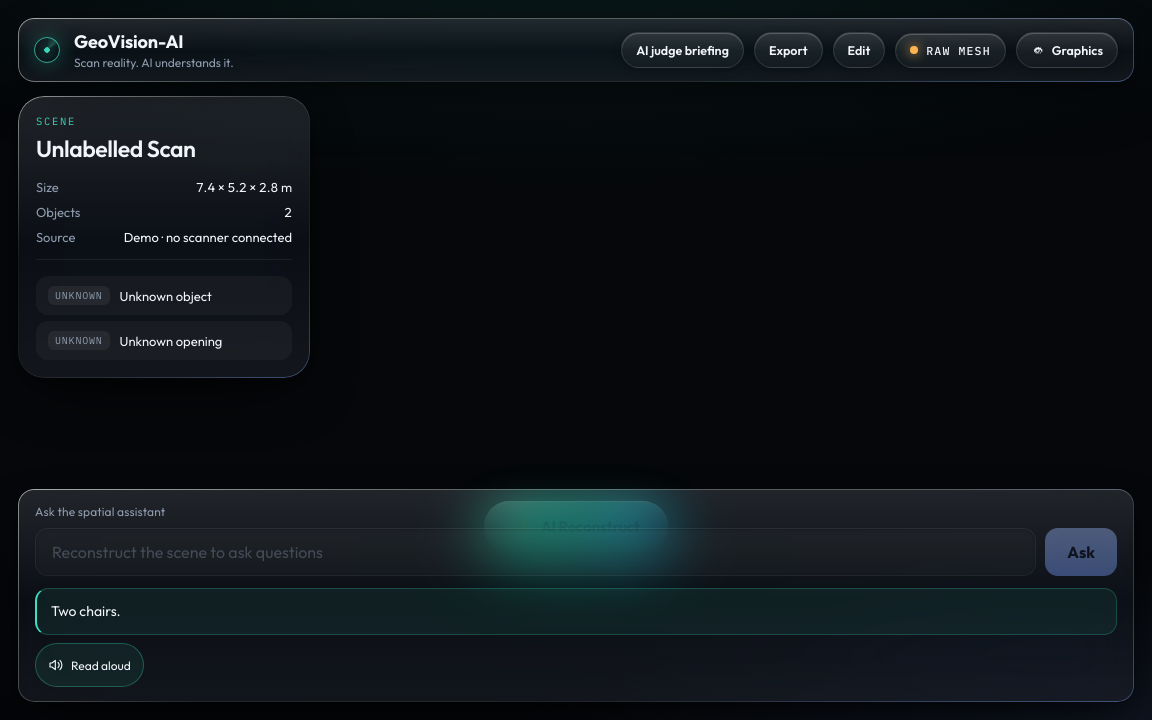
AI reply read aloud › shows a retryable error for a speech event
Click the button "Read aloud": [89, 665] box left=35, top=643, right=144, bottom=687
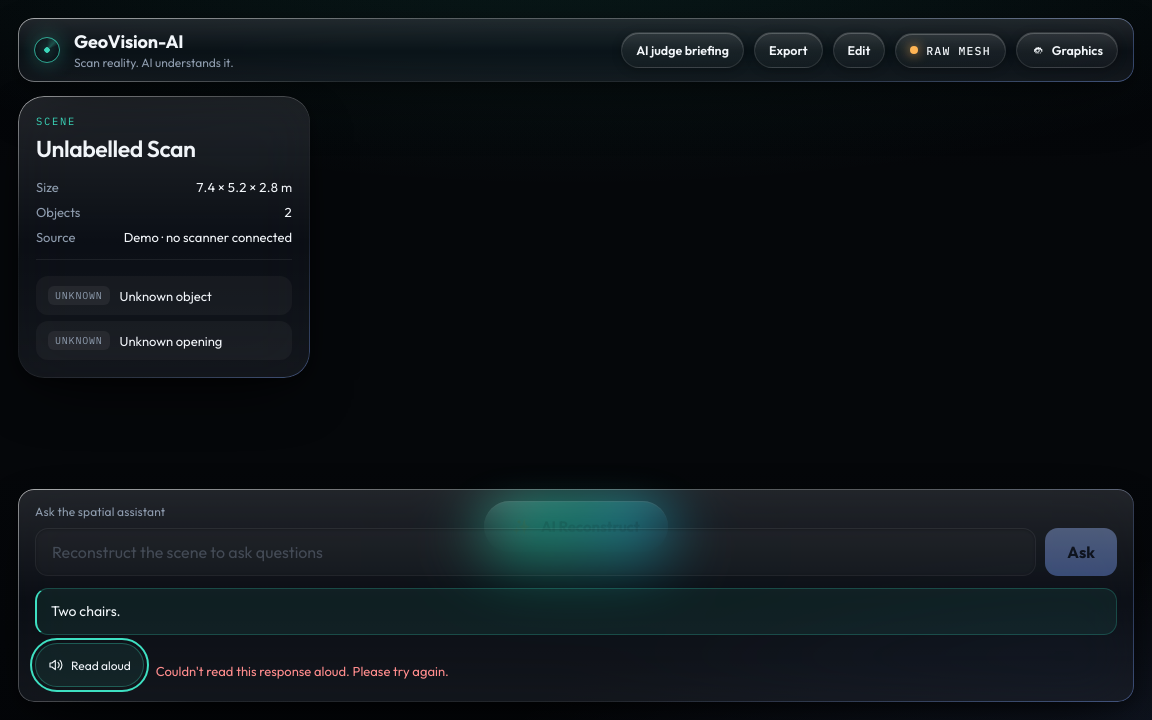
Expected: the message reads "Couldn't read this response aloud. Please try again.", left=156, top=662, right=449, bottom=678
Click the button "Read aloud": [89, 665] box left=35, top=643, right=144, bottom=687
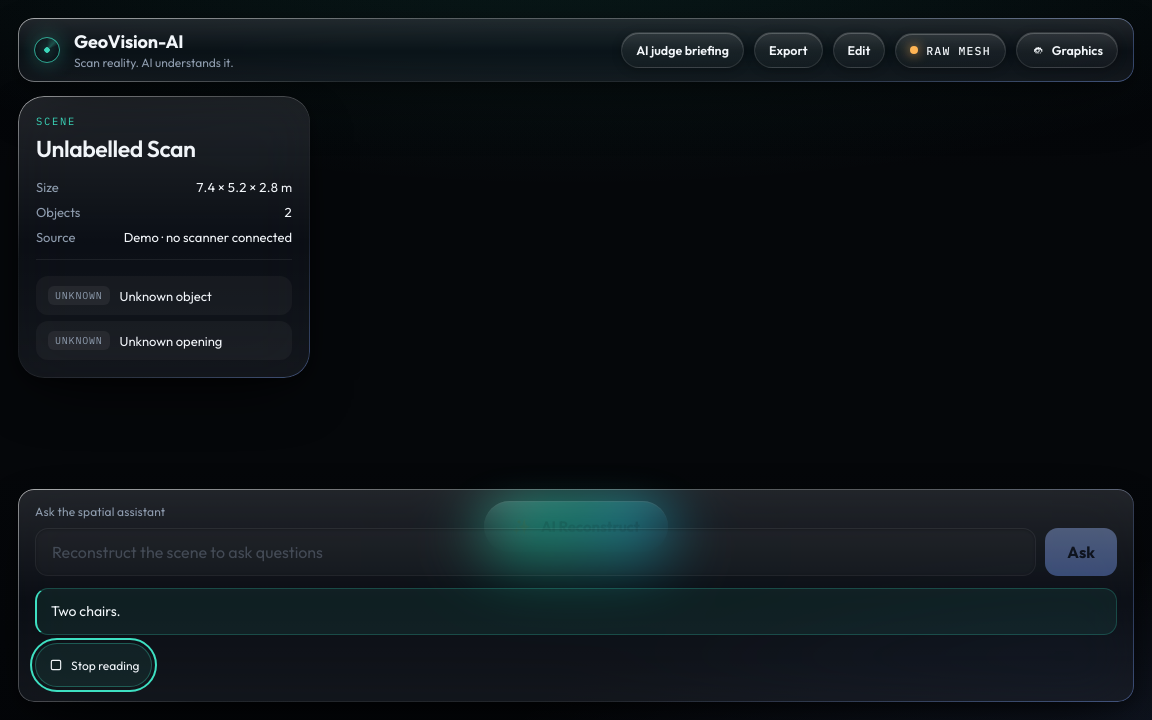
Expected: the text "Couldn't read" is gone
